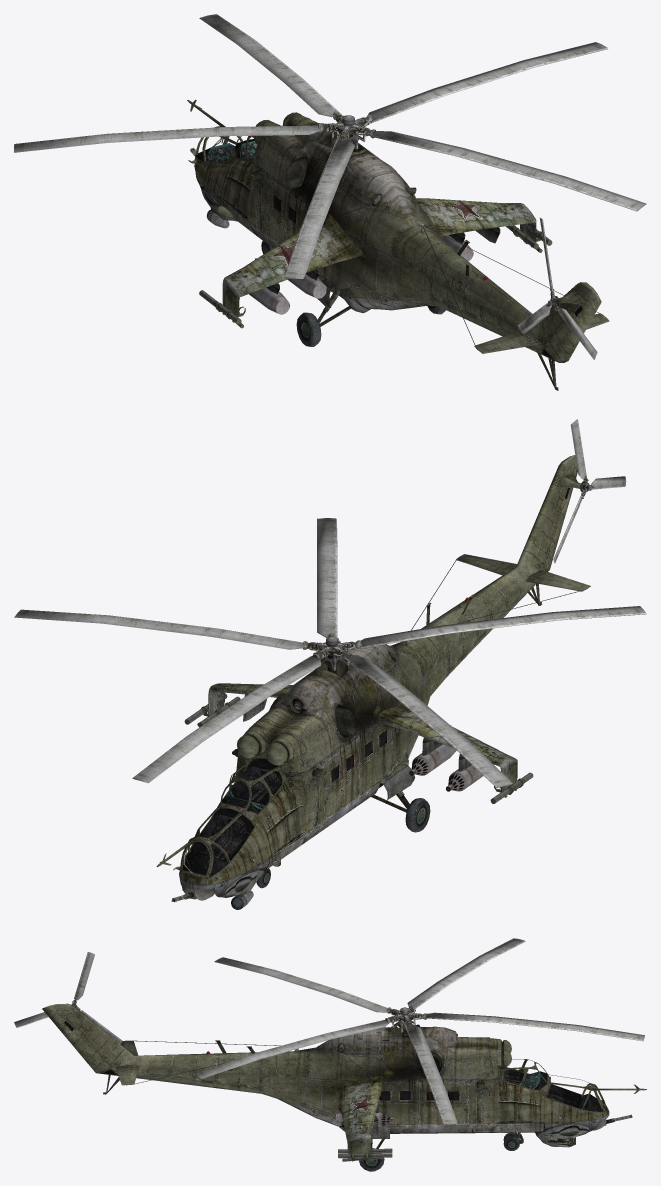
The picture shows the model from 3 angles, top to bottom: view 1: azimuth 30°, elevation 25°; view 2: azimuth 150°, elevation 25°; view 3: azimuth 270°, elevation 25°; orthographic projection. The views are drawn at different scales.
Parts seen in each view (by area): view 1: Body, RotorMesh, TailRotorMesh; view 2: Body, RotorMesh, TailRotorMesh; view 3: Body, RotorMesh, TailRotorMesh.
Boxes of the visible parts, x1,y1,x2,y2 form: Body: (14,99,646,390); RotorMesh: (14,14,646,278); TailRotorMesh: (540,218,597,359); Body: (132,455,646,909); RotorMesh: (14,518,646,787); TailRotorMesh: (560,419,626,498); Body: (42,1003,646,1171); RotorMesh: (195,938,644,1123); TailRotorMesh: (14,952,94,1027).
Bounding box in the file's own units: 15.22 × 6.99 × 21.3.
Materials: 1 (1 with a texture image).
